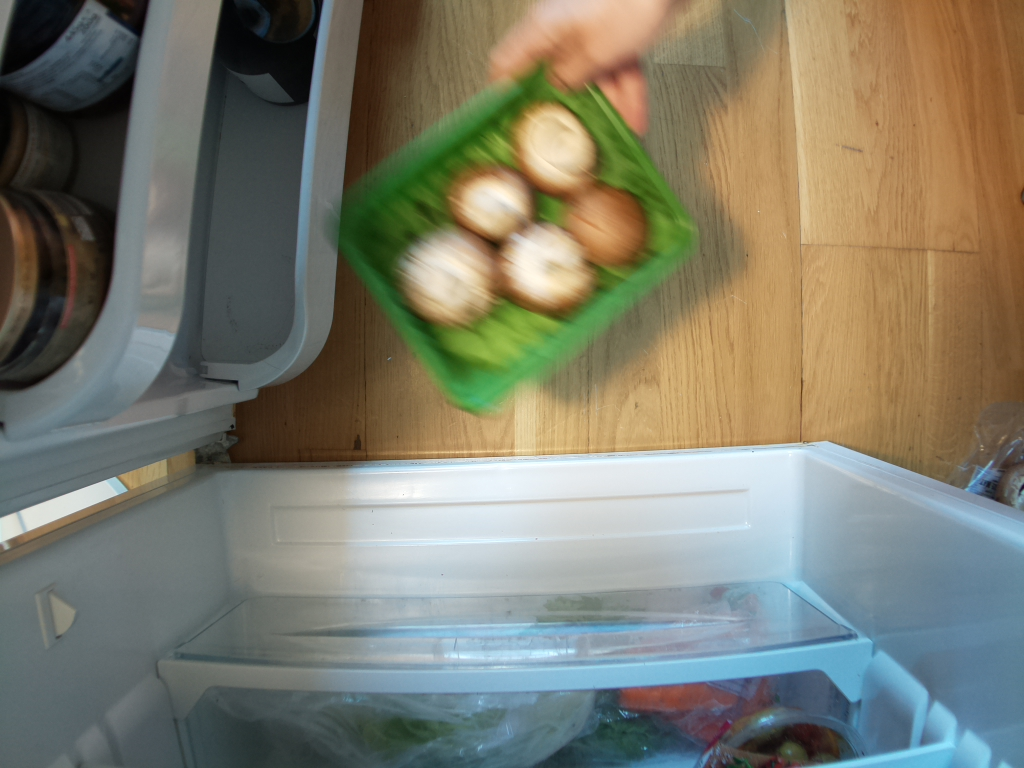mushrooms: (341, 63, 687, 414)
